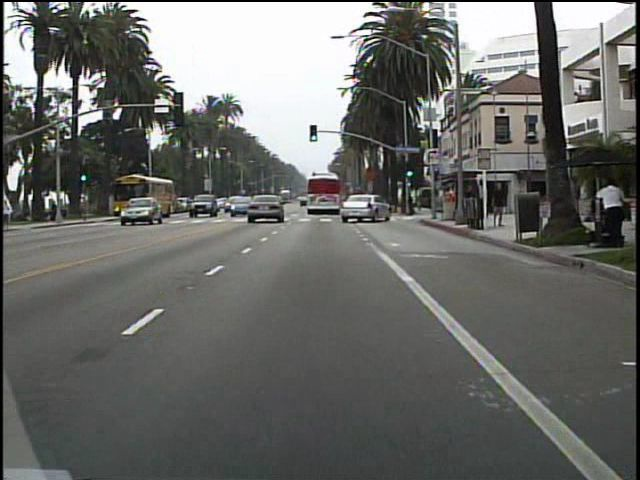person: (593, 174, 620, 249), (490, 179, 509, 232), (463, 180, 482, 225), (444, 183, 458, 222)
